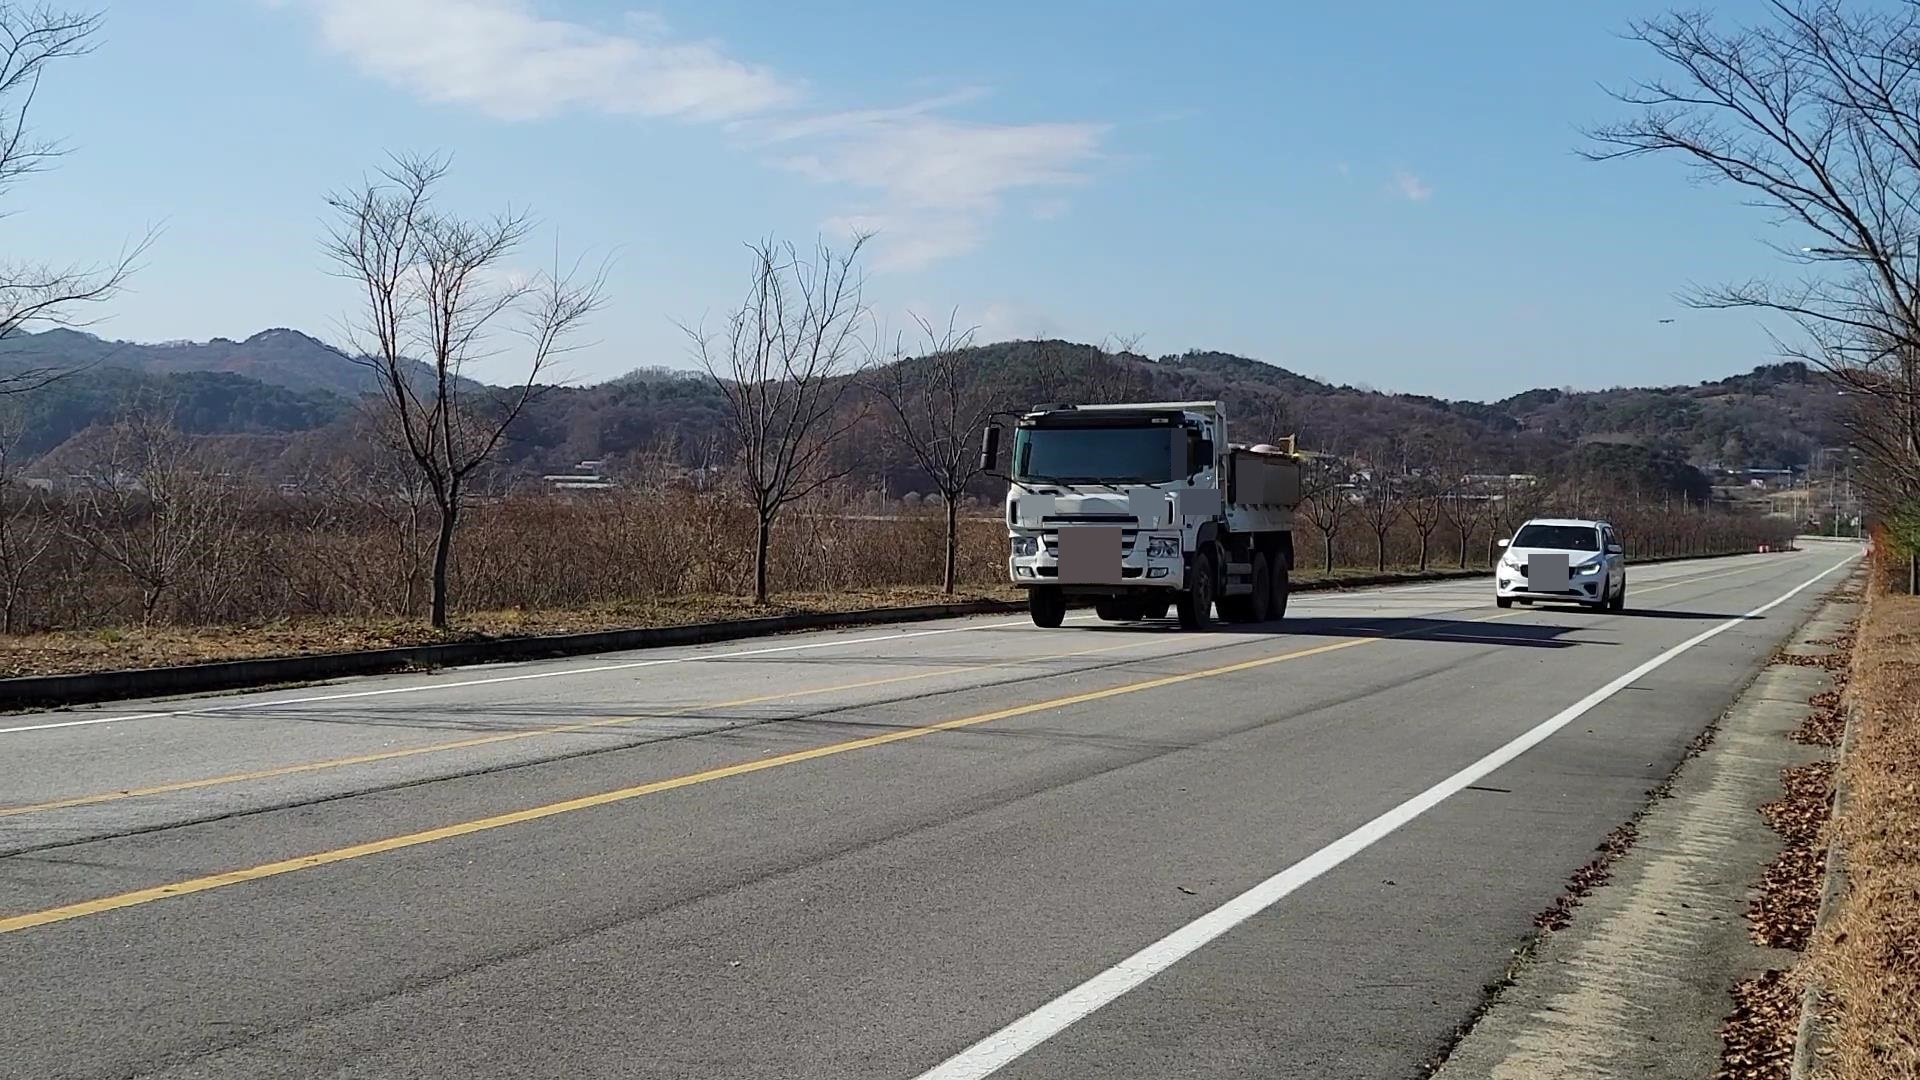불법차량: (980, 401, 1308, 630)
